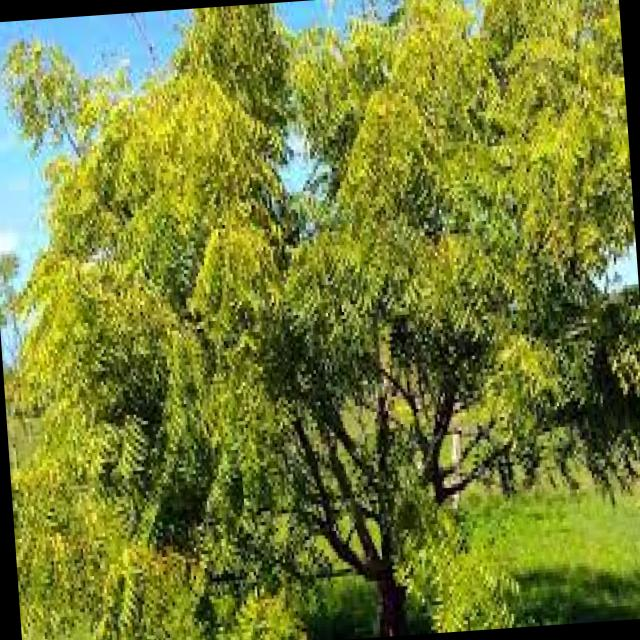Medicinal-Neem: (3, 0, 633, 599)
